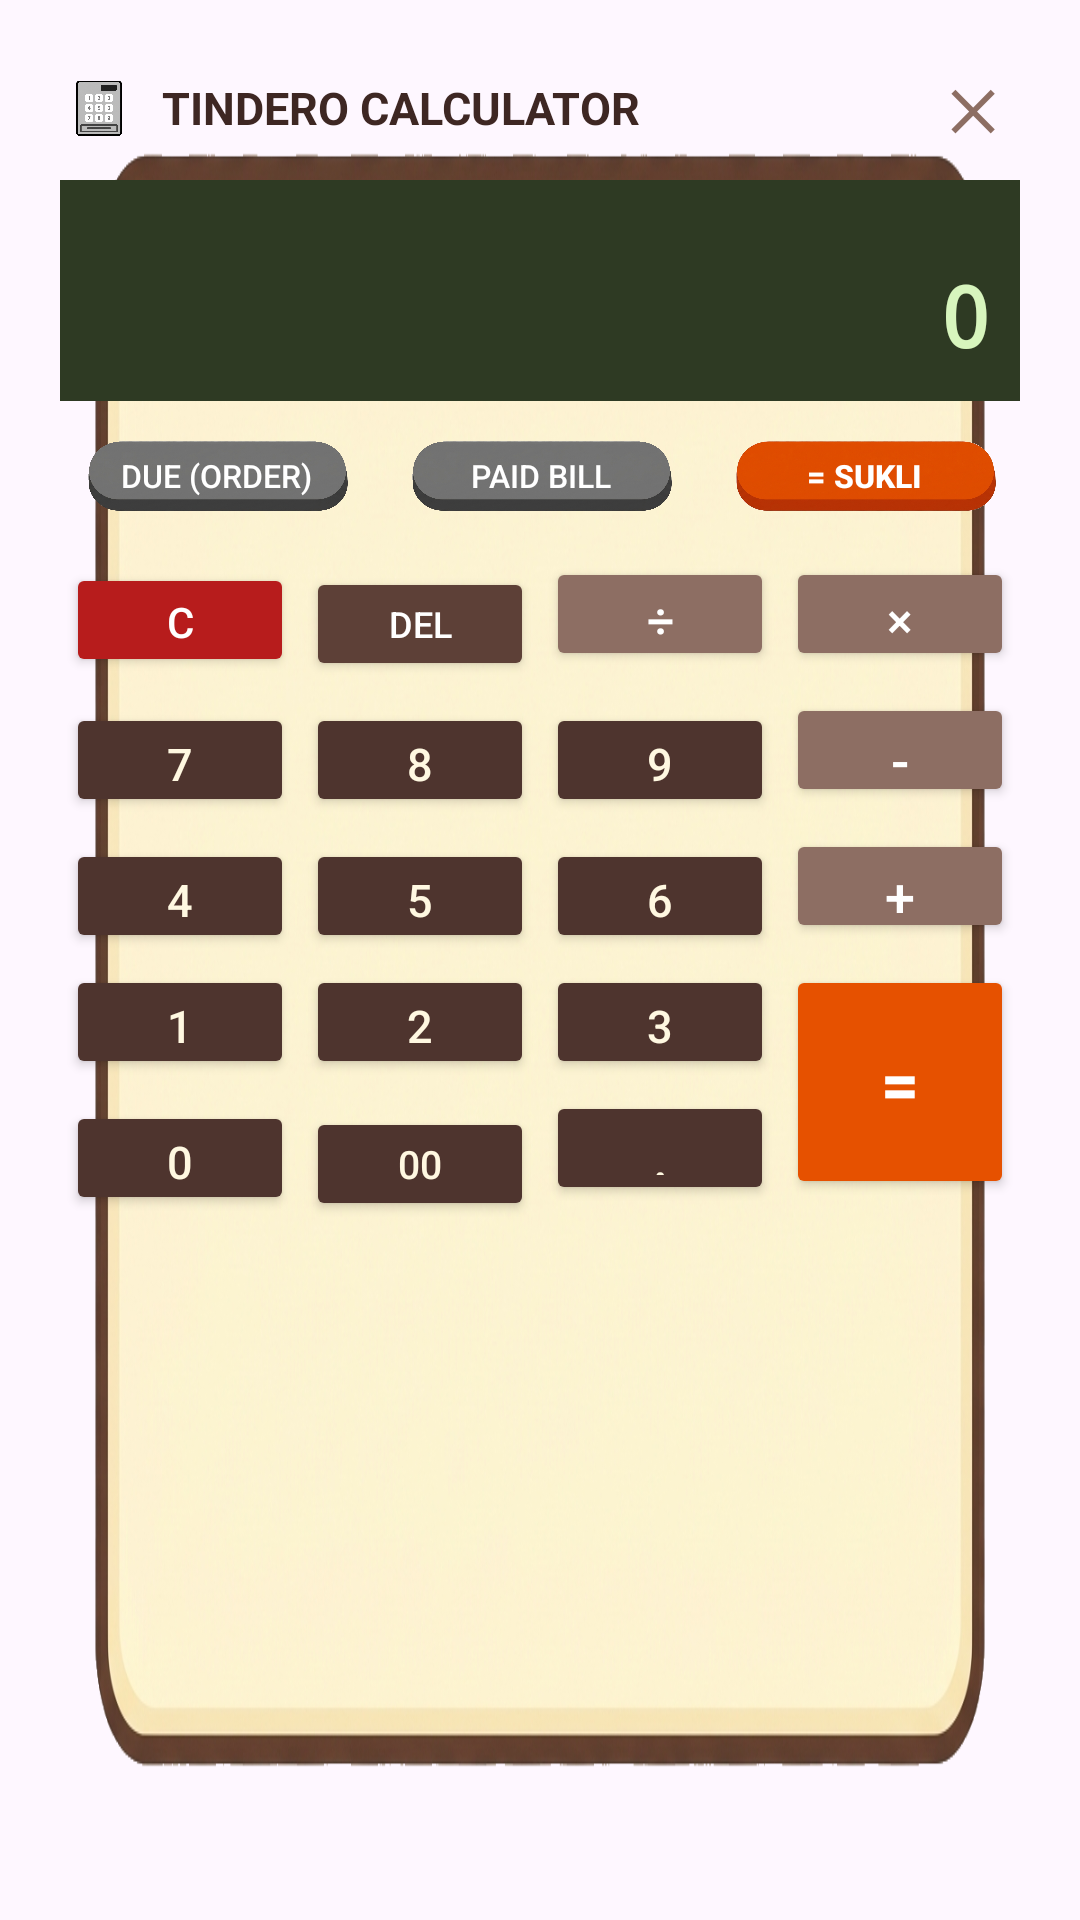

Icon click points for this 1080*1920 phone screenshot, format [x,y]:
ui cash register: [99,108]
